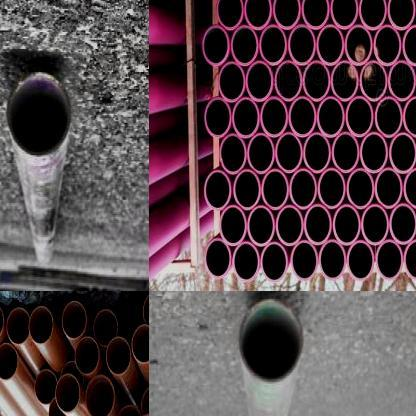pipe: (7, 70, 72, 158), (238, 298, 302, 386), (85, 374, 115, 416), (247, 206, 276, 248), (276, 204, 304, 247), (233, 168, 261, 210), (261, 168, 289, 210), (346, 168, 374, 210), (332, 132, 360, 174), (274, 132, 302, 174), (232, 96, 260, 138), (288, 96, 316, 138), (317, 96, 345, 138), (260, 96, 288, 138), (360, 60, 388, 102), (230, 24, 258, 66), (288, 24, 316, 66), (290, 240, 318, 282), (205, 237, 232, 280), (204, 170, 232, 211), (318, 168, 346, 209), (360, 132, 388, 173), (346, 96, 374, 137), (331, 61, 359, 102), (274, 61, 302, 102), (388, 61, 416, 102), (345, 25, 373, 66), (259, 25, 287, 66), (232, 242, 260, 283), (219, 205, 247, 246), (304, 204, 332, 245), (289, 168, 316, 210), (247, 132, 274, 174), (389, 132, 416, 174), (375, 96, 402, 138), (203, 26, 230, 68), (374, 24, 401, 66), (375, 168, 403, 208), (219, 134, 247, 174), (303, 132, 331, 172), (218, 62, 246, 102), (316, 24, 344, 64), (260, 242, 288, 282), (246, 61, 273, 102), (319, 240, 346, 281), (334, 204, 361, 245), (389, 204, 416, 245), (204, 96, 230, 138), (362, 204, 388, 246), (303, 61, 330, 101), (347, 241, 374, 281), (376, 240, 402, 280), (75, 336, 100, 376), (106, 336, 131, 376), (54, 374, 80, 412), (92, 309, 118, 347), (28, 306, 53, 344), (62, 300, 86, 339), (6, 308, 30, 346), (34, 369, 58, 405), (387, 0, 415, 30), (301, 0, 329, 30), (330, 0, 358, 30), (272, 0, 300, 29), (216, 0, 244, 29), (244, 0, 272, 29), (359, 0, 386, 30), (0, 343, 18, 380), (132, 324, 149, 363), (402, 25, 416, 67), (403, 96, 416, 138), (403, 238, 416, 280), (403, 168, 416, 209), (48, 398, 70, 416), (115, 405, 141, 416), (142, 292, 149, 330), (141, 383, 149, 416)
